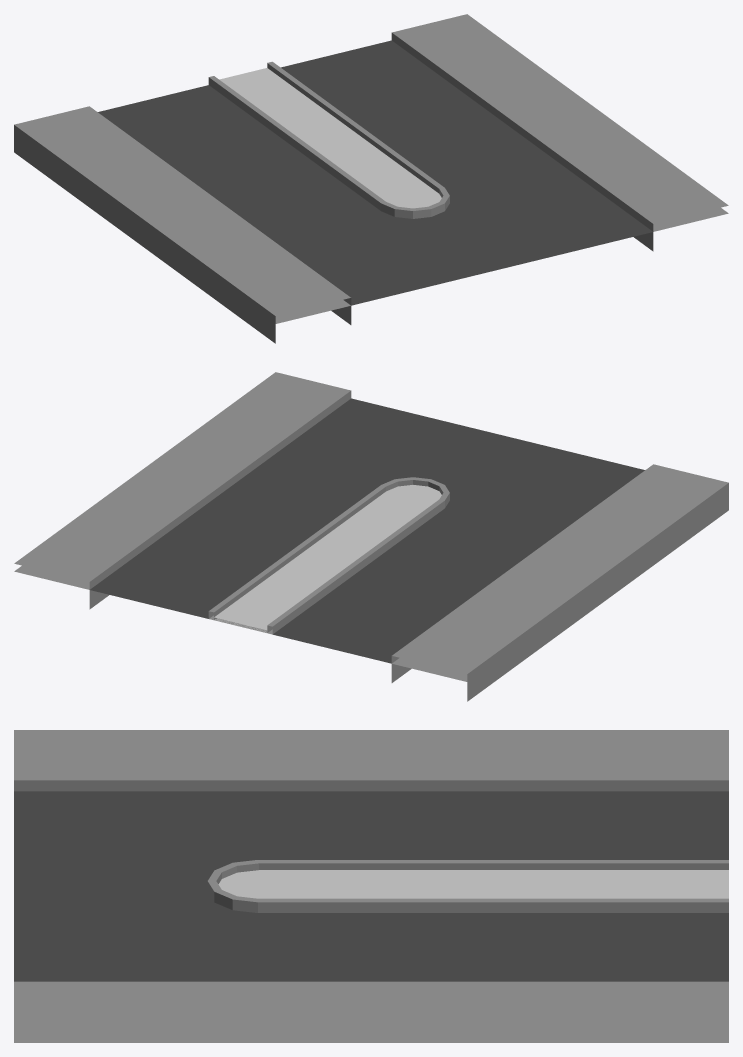
3 views of the same model, one above another, from view 1: azimuth 30°, elevation 25°; view 2: azimuth 150°, elevation 25°; view 3: azimuth 270°, elevation 25° (orthographic). The views are drawn at different scales.
Visible parts, largest first — view 1: Model_0, Skybox, Grass; view 2: Model_0, Grass, Skybox; view 3: Model_0, Skybox, Grass.
Part boxes in pixels (<box>): Model_0: <box>14,14,728,343</box>; Skybox: <box>98,89,728,323</box>; Grass: <box>219,68,441,208</box>; Model_0: <box>14,372,728,701</box>; Grass: <box>214,485,441,630</box>; Skybox: <box>14,437,621,681</box>; Model_0: <box>14,730,728,1032</box>; Skybox: <box>14,791,728,1042</box>; Grass: <box>218,870,728,898</box>.
Size of what is drawn, in the model's own units: 2400 by 140 by 2400.
